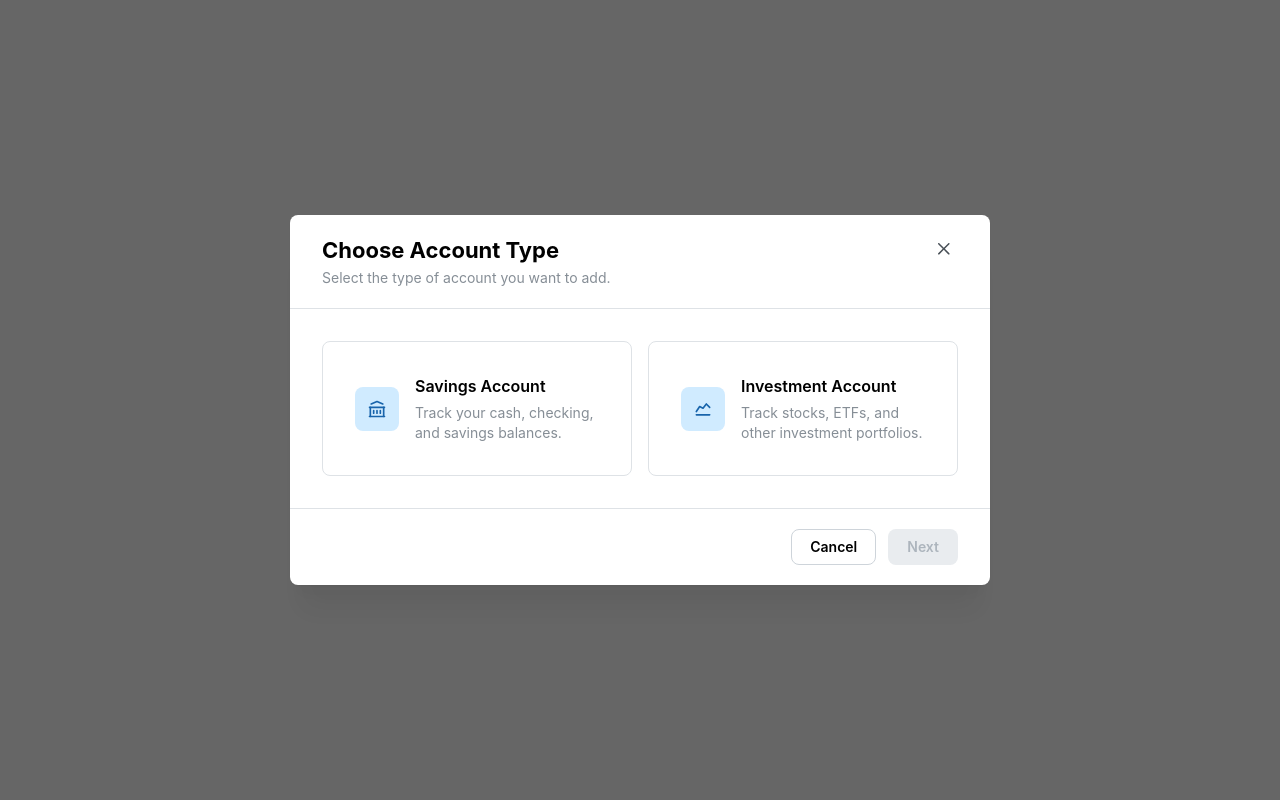
Test case: AddAccountModal › enables Next button after selecting an account type
The image size is (1280, 800).
Click the text "Savings Account" at (480, 386), box [415,376,546,396]
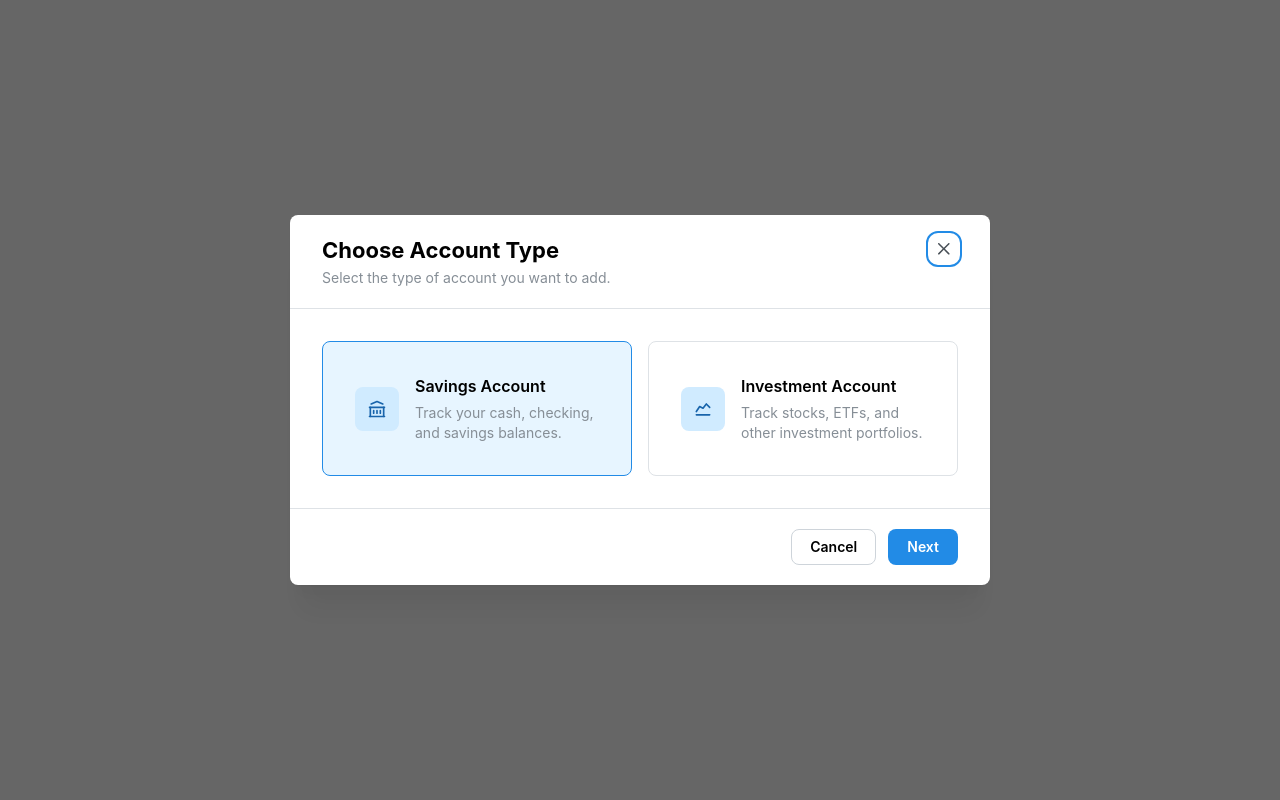
Now the button "Next" is enabled, box [888,529,958,565]
